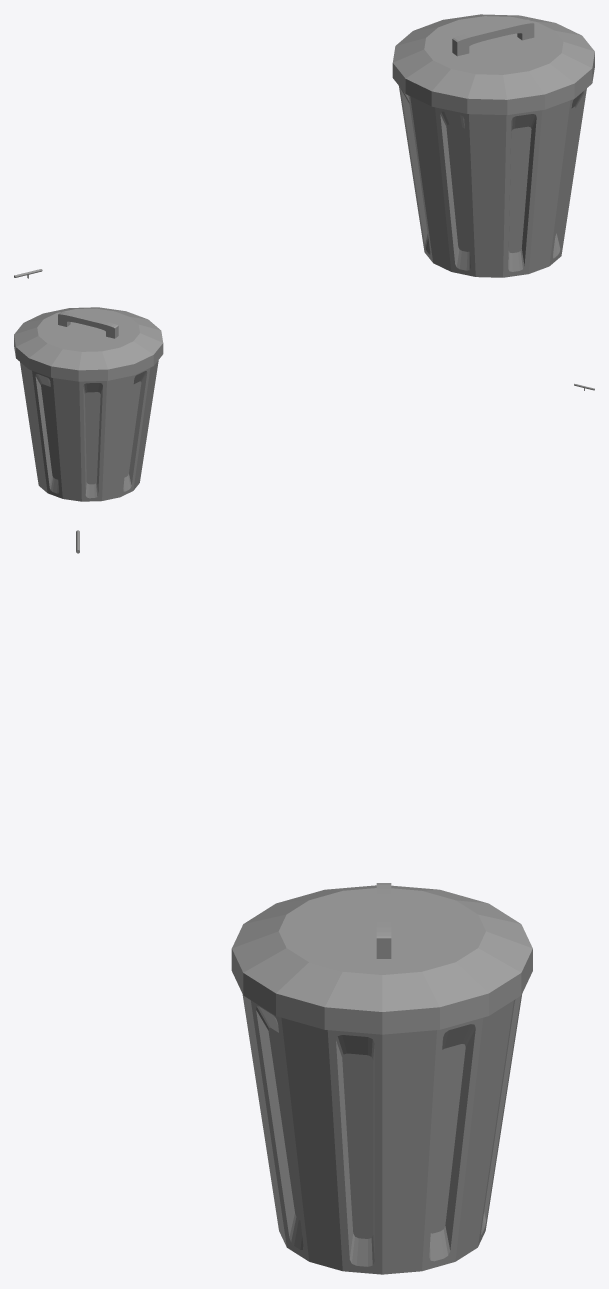
The model's file is buildig.004_metal_(scratched)_0_lev3.glb.
3 renders of one model, top to bottom at view 1: azimuth 30°, elevation 25°; view 2: azimuth 150°, elevation 25°; view 3: azimuth 270°, elevation 25°, orthographic. The views are drawn at different scales.
Visible parts, largest first — view 1: buildig.004_metal_(scratched)_0_lev3; view 2: buildig.004_metal_(scratched)_0_lev3; view 3: buildig.004_metal_(scratched)_0_lev3.
Part boxes in pixels (x1,y1,x2,y2): buildig.004_metal_(scratched)_0_lev3: (14, 14, 594, 278); buildig.004_metal_(scratched)_0_lev3: (14, 307, 594, 501); buildig.004_metal_(scratched)_0_lev3: (76, 530, 532, 1274).
Bounding box in the file's own units: 1.21 × 0.3776 × 0.4838.
Materials: 1 (1 with a texture image).
